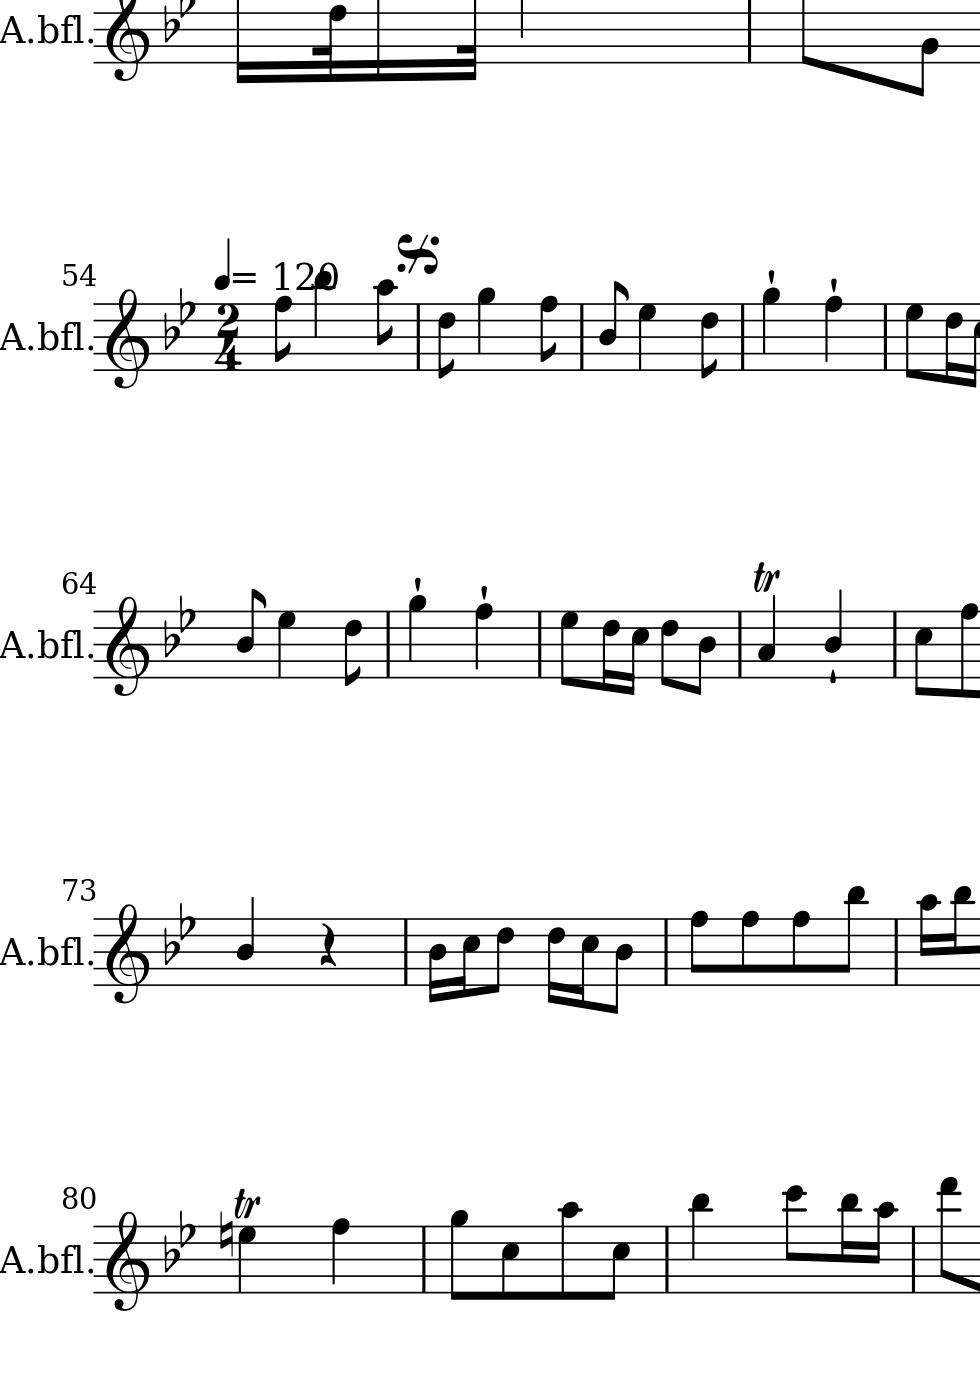0: (318, 258, 342, 290), (78, 1183, 97, 1214)
1: (273, 260, 291, 290)
16_10: (868, 1200, 897, 1296), (915, 892, 940, 987)
16_11: (944, 884, 974, 988), (837, 1190, 861, 1296)
16_4: (426, 917, 447, 1003)
16_5: (573, 916, 599, 1010), (624, 609, 650, 696), (454, 915, 480, 999)
16_6: (545, 916, 566, 1005), (943, 301, 964, 386), (600, 609, 622, 692)
2: (296, 260, 315, 291)
3: (78, 877, 97, 903)
4: (211, 335, 245, 371), (77, 262, 97, 290), (78, 569, 98, 596)
4_11: (686, 1191, 713, 1295)
4_3: (755, 593, 778, 680)
4_4: (234, 896, 256, 989), (823, 589, 843, 682)
4_7: (275, 609, 298, 680), (635, 301, 658, 372), (237, 1224, 259, 1295)
4_8: (822, 295, 845, 373), (329, 1217, 351, 1295), (472, 603, 494, 680)
4_9: (475, 286, 497, 372), (759, 286, 782, 372), (405, 594, 427, 680)
5: (62, 261, 78, 290)
6: (62, 569, 77, 595)
7: (62, 876, 78, 903)
8: (213, 300, 240, 337), (59, 1183, 78, 1213)
8_10: (555, 1200, 582, 1303), (372, 278, 397, 373)
8_11: (834, 884, 867, 988)
8_12: (781, 1183, 807, 1294)
8_13: (937, 1178, 961, 1294)
8_4: (598, 282, 631, 372), (606, 916, 634, 1016), (233, 587, 264, 680), (689, 609, 717, 698)
8_5: (602, 1223, 631, 1303), (912, 609, 933, 699), (498, 1223, 521, 1303)
8_6: (488, 916, 514, 995), (342, 608, 365, 689), (698, 302, 721, 381), (435, 302, 457, 380), (658, 609, 678, 689)
8_7: (902, 302, 925, 382), (558, 609, 580, 689)
8_8: (956, 600, 979, 702), (738, 909, 760, 989), (537, 294, 559, 373), (789, 909, 810, 989), (687, 909, 708, 988), (272, 295, 293, 373)
8_9: (448, 1208, 470, 1303)
B_F: (161, 1208, 197, 1274), (161, 287, 197, 352), (162, 594, 196, 657), (162, 901, 195, 966)
Gclef: (104, 594, 150, 698), (104, 287, 148, 391), (105, 901, 150, 1005), (105, 1209, 150, 1313)
Natural: (216, 1209, 233, 1258)
Rests4: (317, 922, 337, 968)
Segno: (389, 232, 443, 273)
Single_barline: (414, 1226, 434, 1293), (657, 1226, 676, 1292), (876, 303, 894, 371), (657, 918, 675, 986), (733, 303, 751, 370), (531, 611, 549, 678), (887, 919, 905, 985), (397, 918, 414, 986), (886, 611, 903, 678), (573, 303, 590, 369), (410, 304, 427, 370), (379, 611, 396, 677), (732, 611, 748, 678), (905, 1227, 921, 1292)
Speed4: (213, 236, 258, 290)
Staccatissimo: (825, 667, 839, 686)
TimeSig: (214, 300, 243, 370)
Trill: (229, 1186, 261, 1222), (750, 558, 781, 595)
